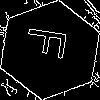F: (25, 25, 77, 62)
